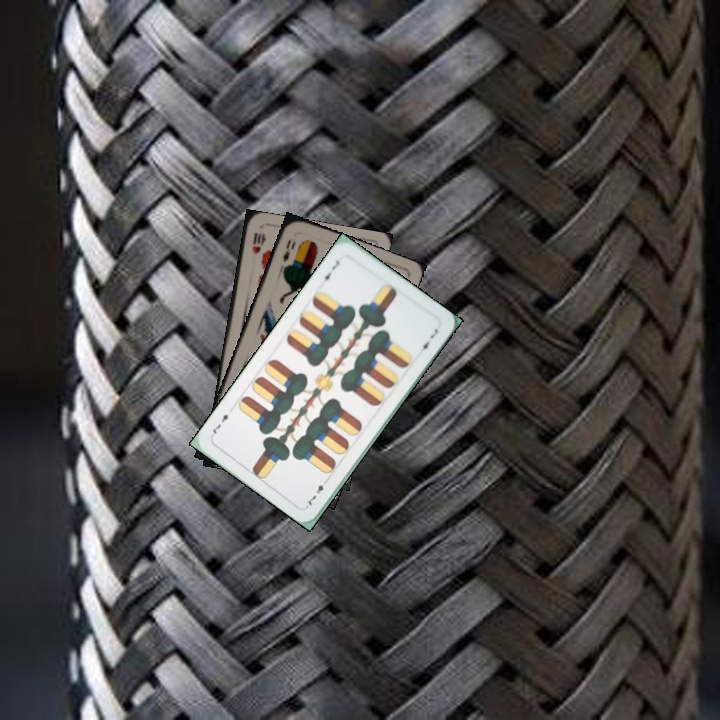E7: (302, 474, 331, 509), (316, 256, 342, 286)
EO: (279, 235, 298, 264)
H10: (248, 228, 265, 256)
